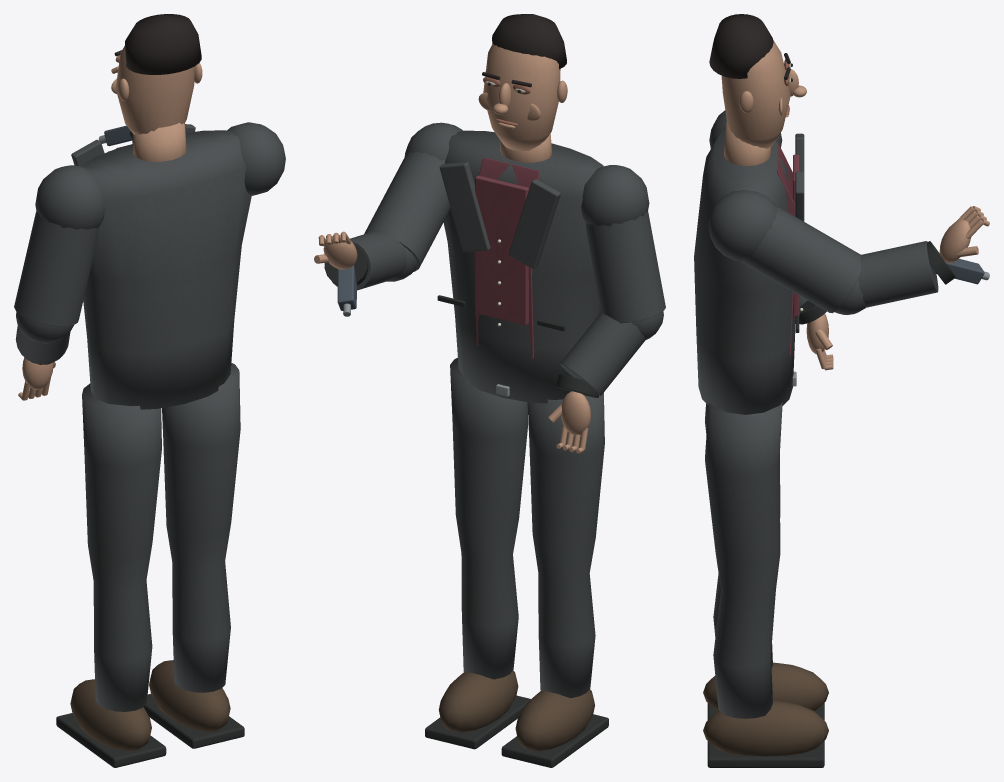
File: boss-lod.glb
3 views of the same model, side by side, from view 1: azimuth 30°, elevation 25°; view 2: azimuth 150°, elevation 25°; view 3: azimuth 270°, elevation 25° (orthographic). The views are drawn at different scales.
Visible parts, largest first — view 1: boss_lod__BODY, boss__LEG_L, boss__LEG_R; view 2: boss_lod__BODY, boss__LEG_R, boss__LEG_L; view 3: boss_lod__BODY, boss__LEG_R, boss__LEG_L.
Part boxes in pixels (left/top/right/bottom): boss_lod__BODY: left=14, top=14, right=285, bottom=409; boss__LEG_L: left=56, top=383, right=166, bottom=767; boss__LEG_R: left=144, top=363, right=244, bottom=748; boss_lod__BODY: left=314, top=14, right=665, bottom=453; boss__LEG_R: left=425, top=357, right=530, bottom=749; boss__LEG_L: left=501, top=392, right=608, bottom=767; boss_lod__BODY: left=694, top=14, right=989, bottom=414; boss__LEG_R: left=703, top=402, right=828, bottom=767; boss__LEG_L: left=703, top=403, right=828, bottom=720.
Size of the model in its own units: 0.6609 by 1.76 by 0.6574.
1 material, 1 textured.
